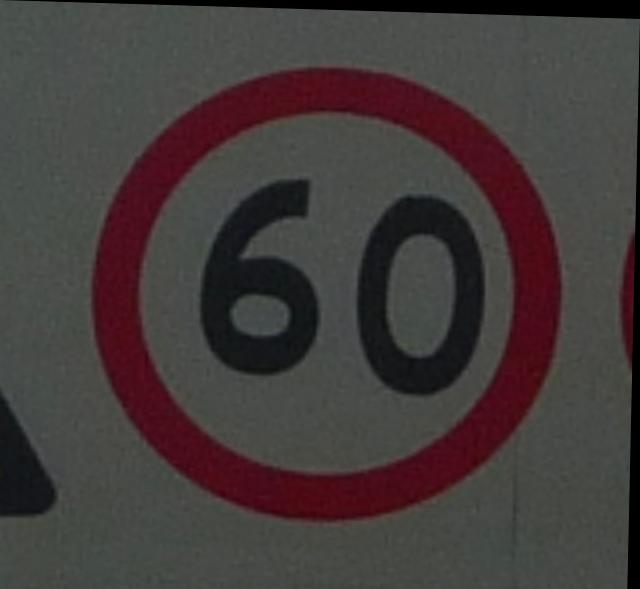limit60: (72, 45, 584, 537)
